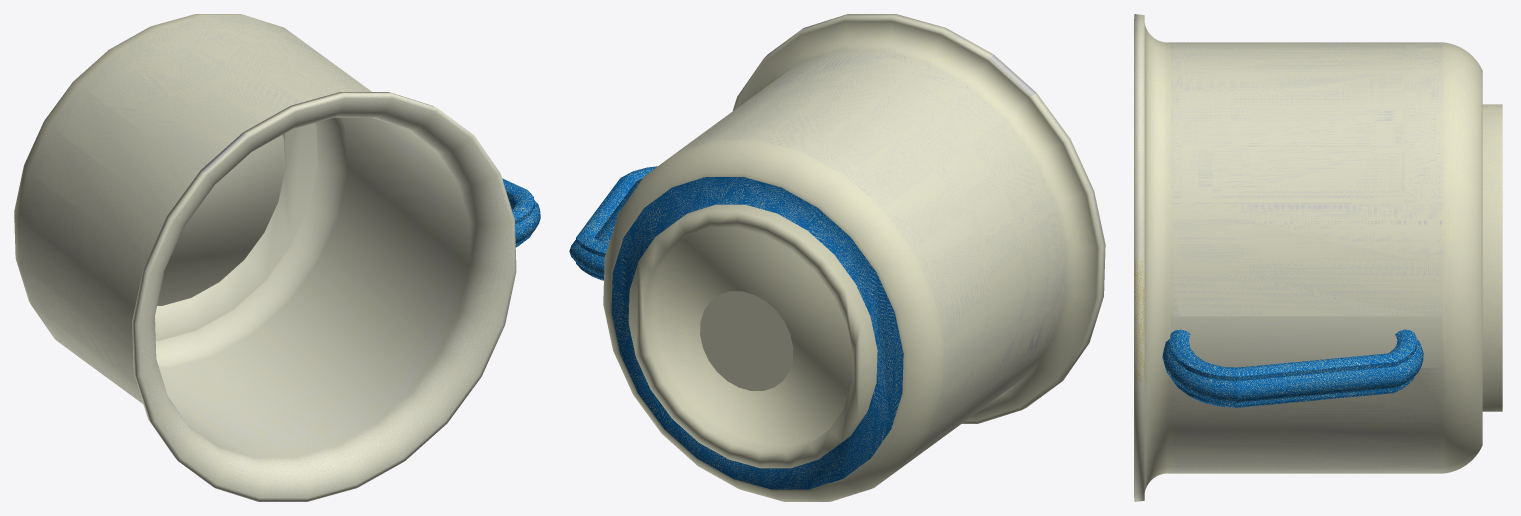
3 renders of one model, left to right at view 1: azimuth 30°, elevation 25°; view 2: azimuth 150°, elevation 25°; view 3: azimuth 270°, elevation 25°, orthographic. The views are drawn at different scales.
Parts seen in each view (by area): view 1: tea cup; view 2: tea cup; view 3: tea cup.
Boxes of the visible parts, box(x1,y1,x2,y2) form: tea cup: box(14, 14, 540, 501); tea cup: box(569, 14, 1105, 501); tea cup: box(1134, 14, 1502, 501).
Size of the model in its own units: 13.66 by 11.72 by 8.99.
